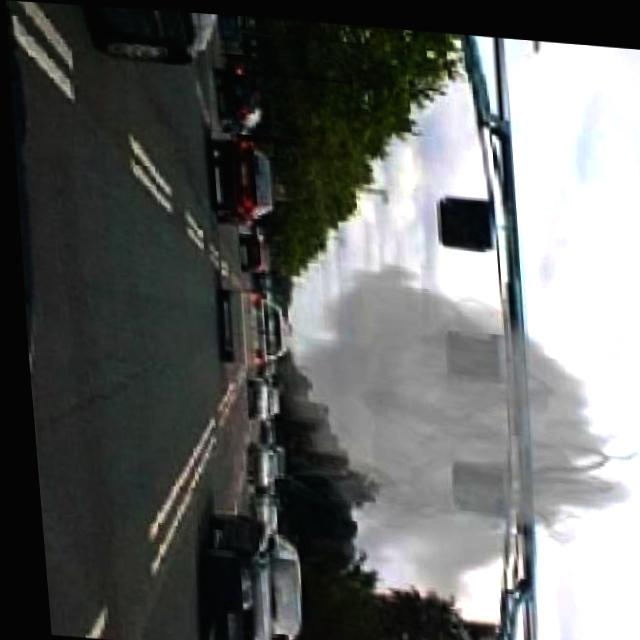no_helmet: (275, 236, 640, 603)
